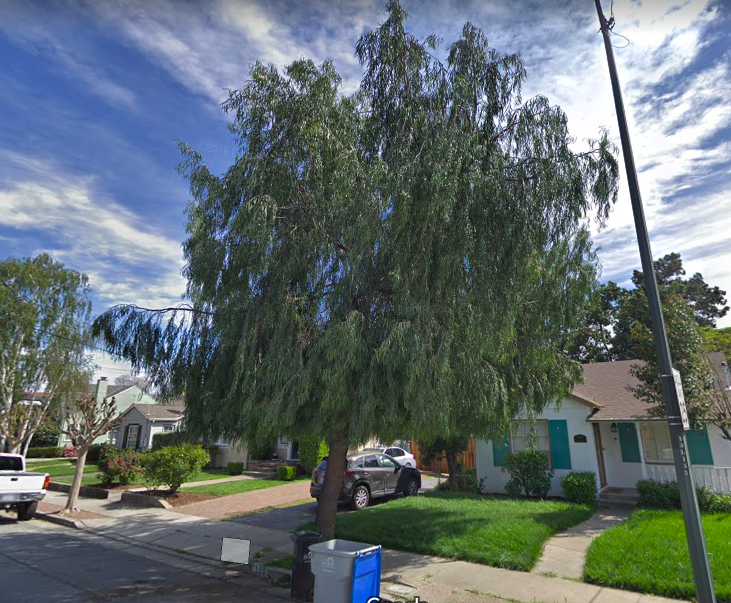tree: (91, 1, 621, 534)
